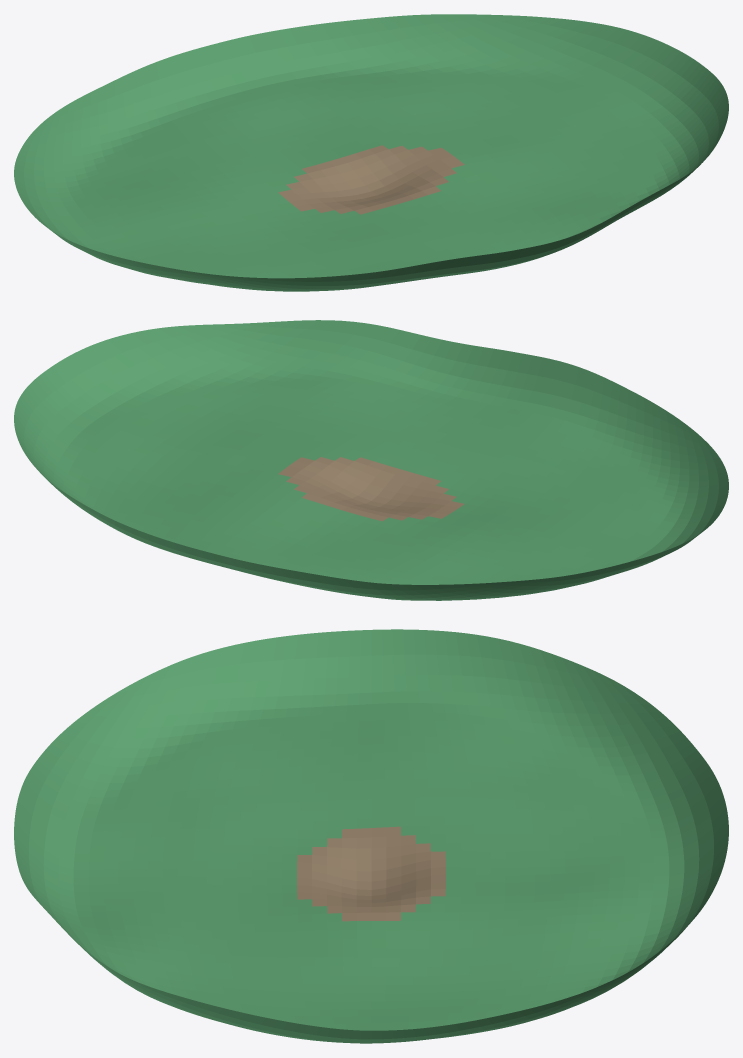
Rendered from ForestGround.glb.
3 renders of one model, top to bottom at view 1: azimuth 30°, elevation 25°; view 2: azimuth 150°, elevation 25°; view 3: azimuth 270°, elevation 25°, orthographic. The views are drawn at different scales.
Visible parts, largest first — view 1: ForestGround; view 2: ForestGround; view 3: ForestGround.
Boxes of the visible parts, box(x1,y1,x2,y2) form: ForestGround: box(14, 14, 728, 291); ForestGround: box(14, 320, 728, 600); ForestGround: box(14, 629, 728, 1043).
Bounding box in the file's own units: 64 × 4.84 × 48.
